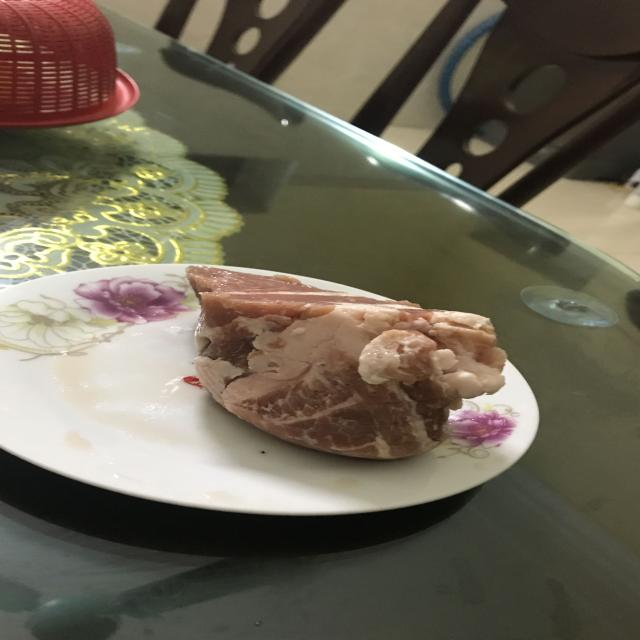chicken: (185, 265, 514, 465)
